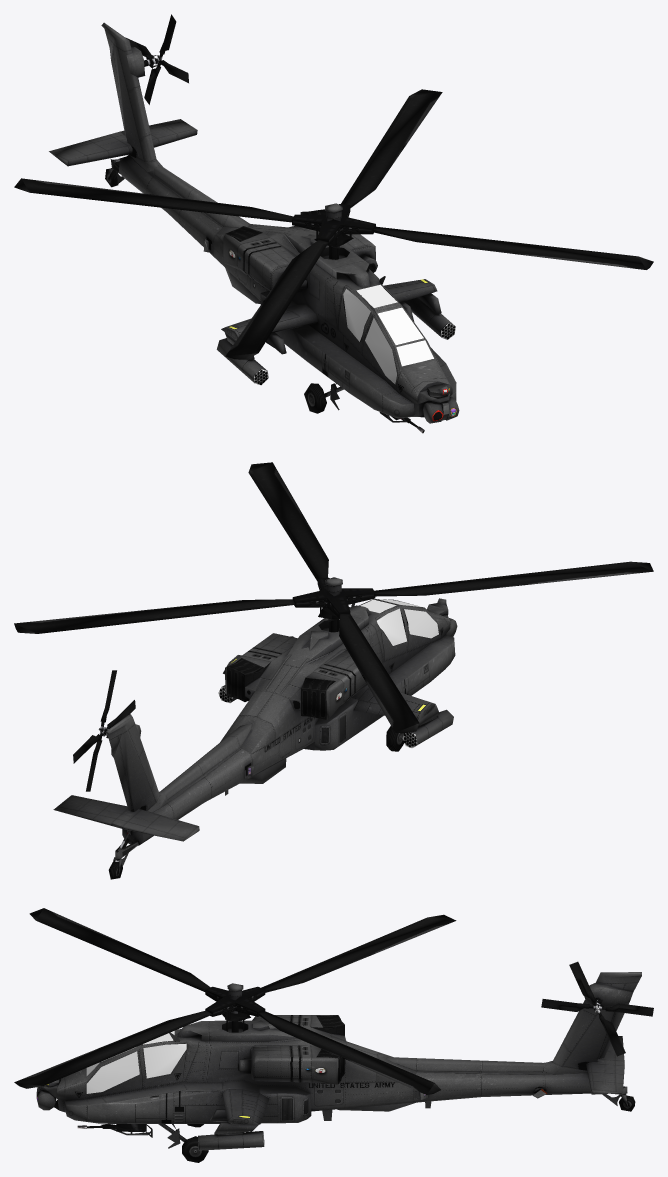
3 renders of one model, top to bottom at view 1: azimuth 30°, elevation 25°; view 2: azimuth 150°, elevation 25°; view 3: azimuth 270°, elevation 25°, orthographic. The views are drawn at different scales.
Parts seen in each view (by area): view 1: hull, main_rotor, glass, tail_rotor; view 2: hull, main_rotor, glass, tail_rotor; view 3: hull, main_rotor, glass, tail_rotor.
Part boxes in pixels (x1,y1,x2,y2): hull: (49, 22, 459, 433); main_rotor: (14, 89, 653, 359); glass: (343, 284, 438, 384); tail_rotor: (125, 14, 188, 104); hull: (53, 577, 457, 879); main_rotor: (14, 462, 653, 733); glass: (360, 599, 438, 645); tail_rotor: (73, 670, 135, 791); hull: (36, 972, 641, 1162); main_rotor: (14, 908, 456, 1094); glass: (86, 1031, 186, 1093); tail_rotor: (541, 961, 653, 1056).
Size of the model in its own units: 11.07 by 5.43 by 16.01.
2 materials, 2 textured.
